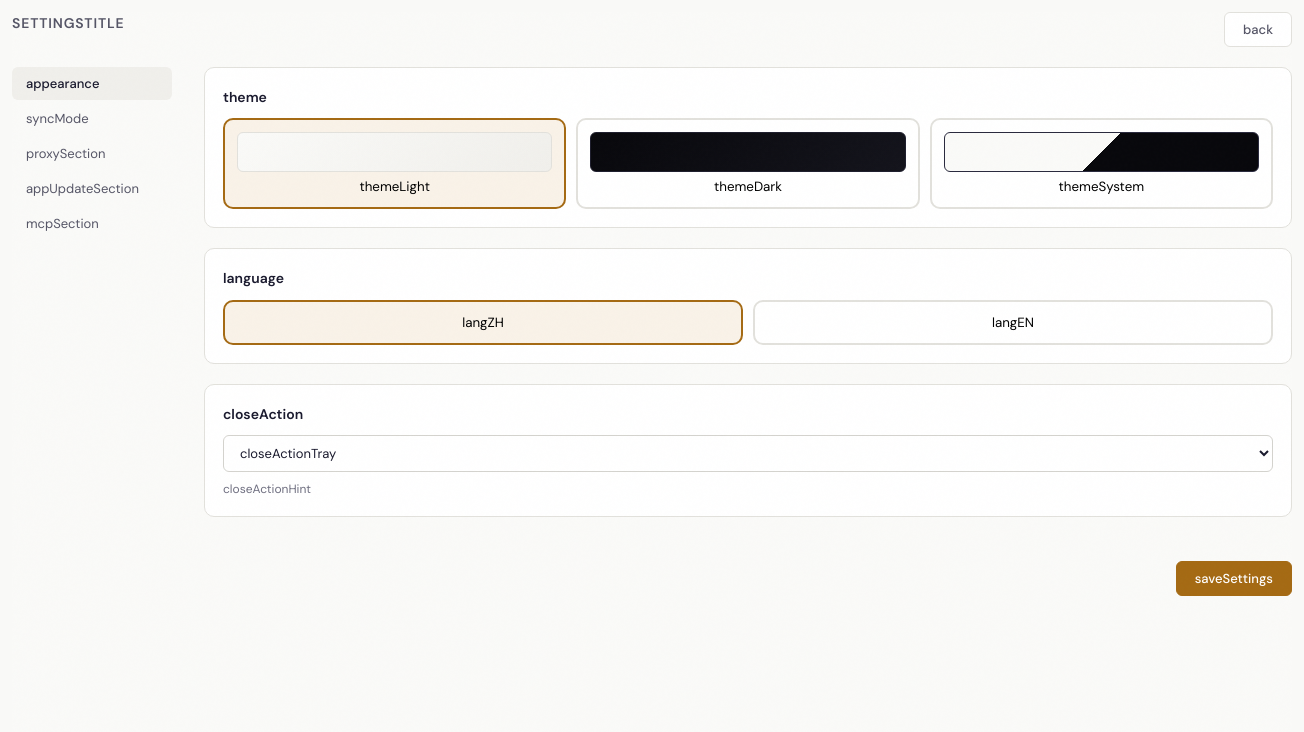
Test case: SettingsPanel › shows the minimize-to-tray option and a check updates button
This screenshot has width=1304, height=732.
Expected: the dropdown shows "closeActionTray", [223,435,1273,472]
# The check-updates button lives on the update section — switch to it.
Step 1. Click the button "appUpdateSection" → click(92, 188), box [12,172,172,205]
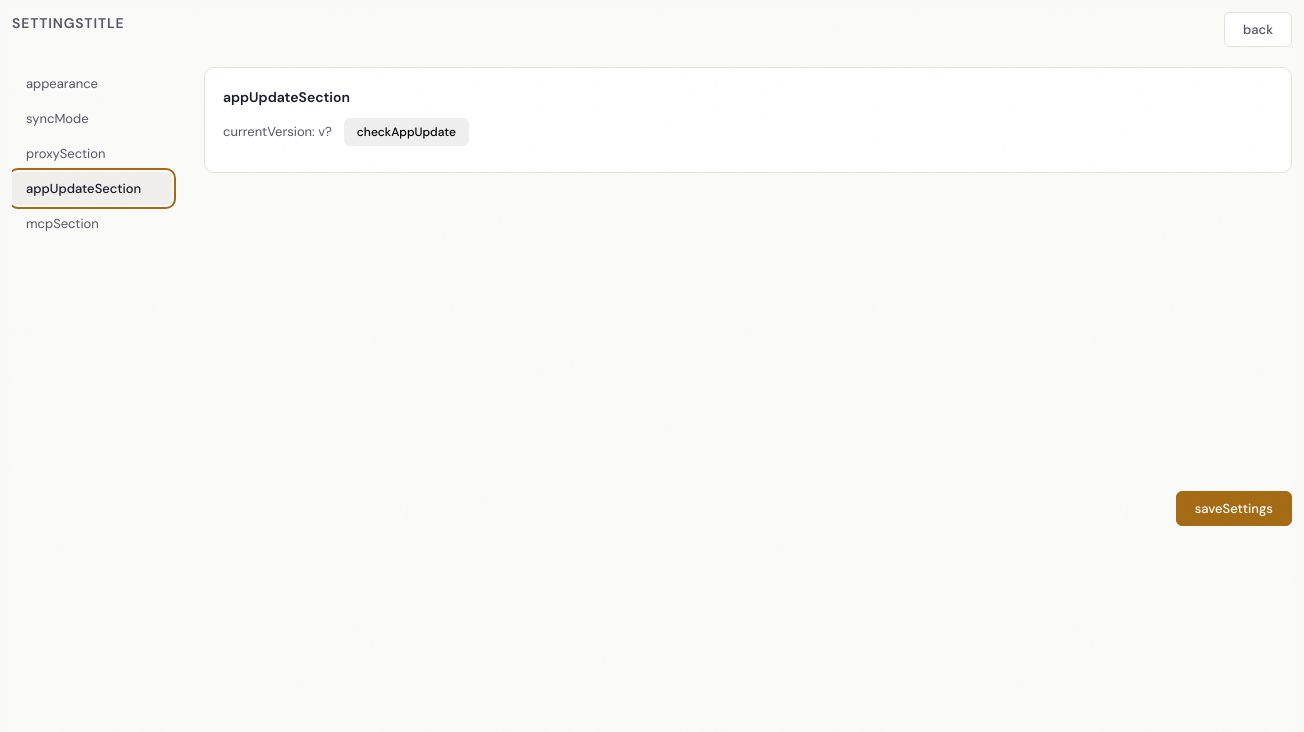
Expected: the button "checkAppUpdate" is enabled, [344,118,469,146]
